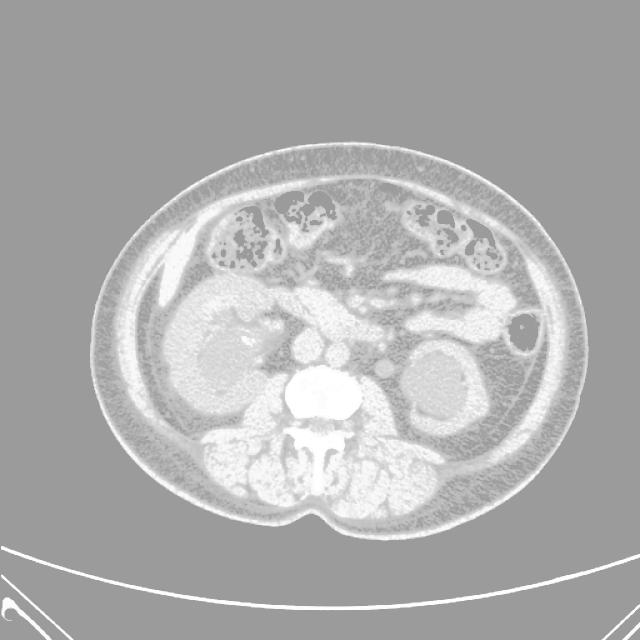STONE: (202, 204, 562, 360)
